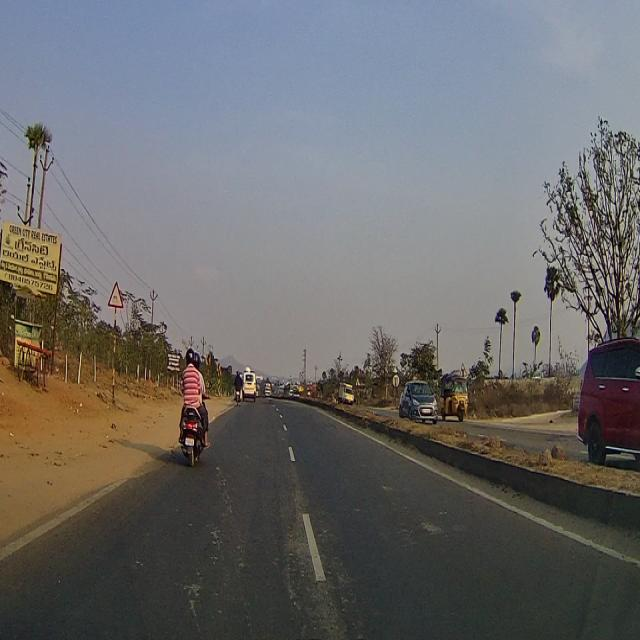left-hand-curve: (109, 277, 121, 311)
